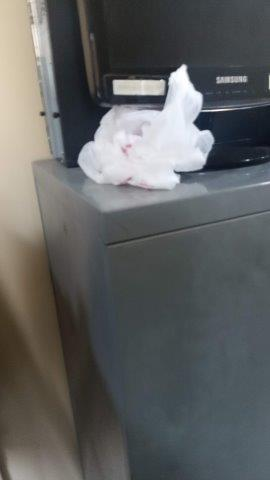plastik: (76, 63, 215, 190)
